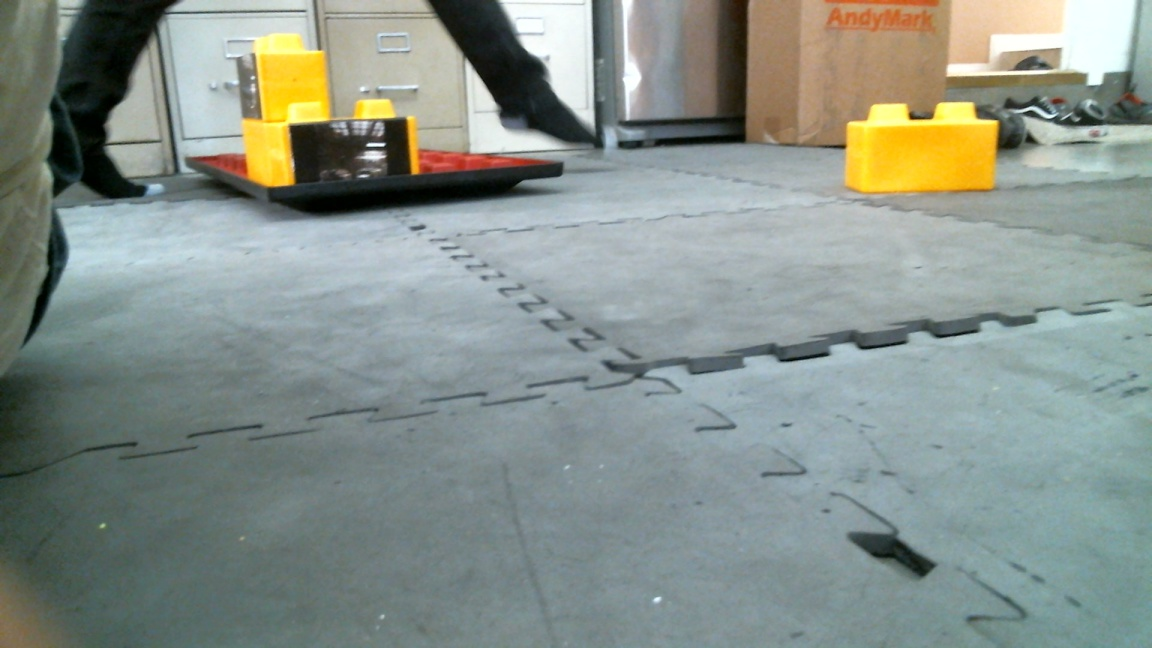red_foundation: (194, 148, 556, 184)
skystone: (272, 104, 416, 179), (235, 34, 322, 122)
stone: (239, 122, 300, 182)
